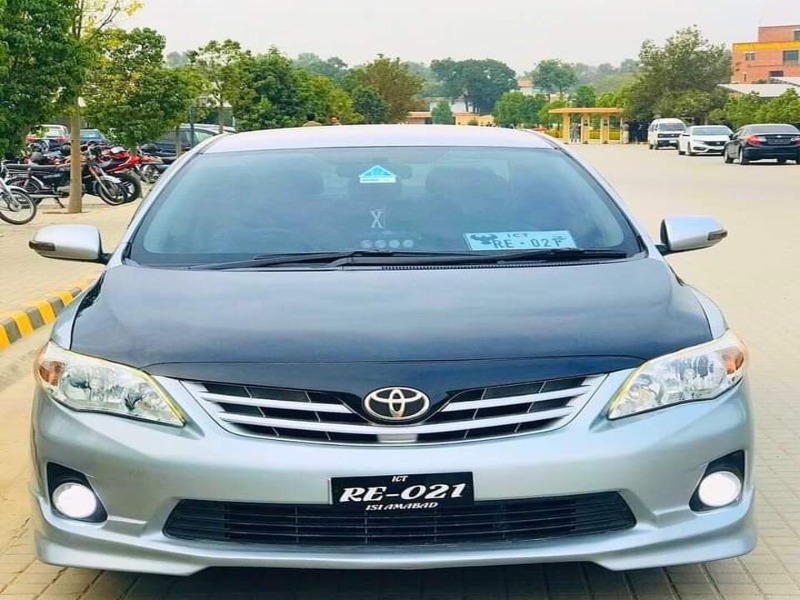License Plate: (324, 470, 478, 515)
